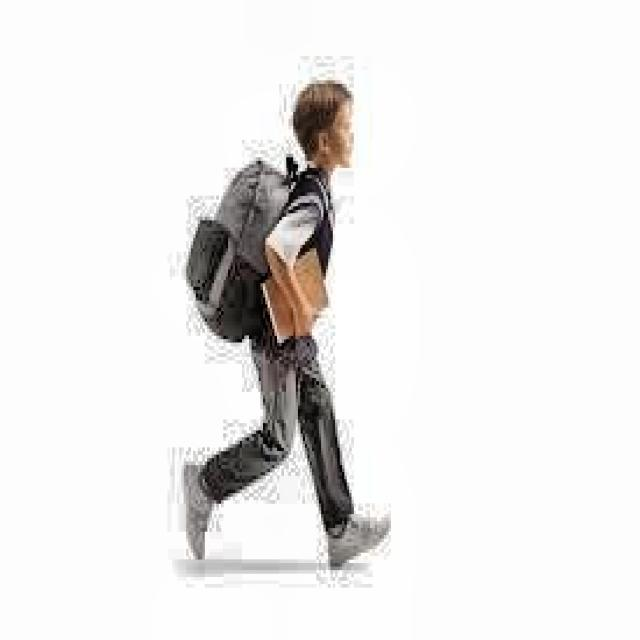Human: (179, 61, 381, 552)
